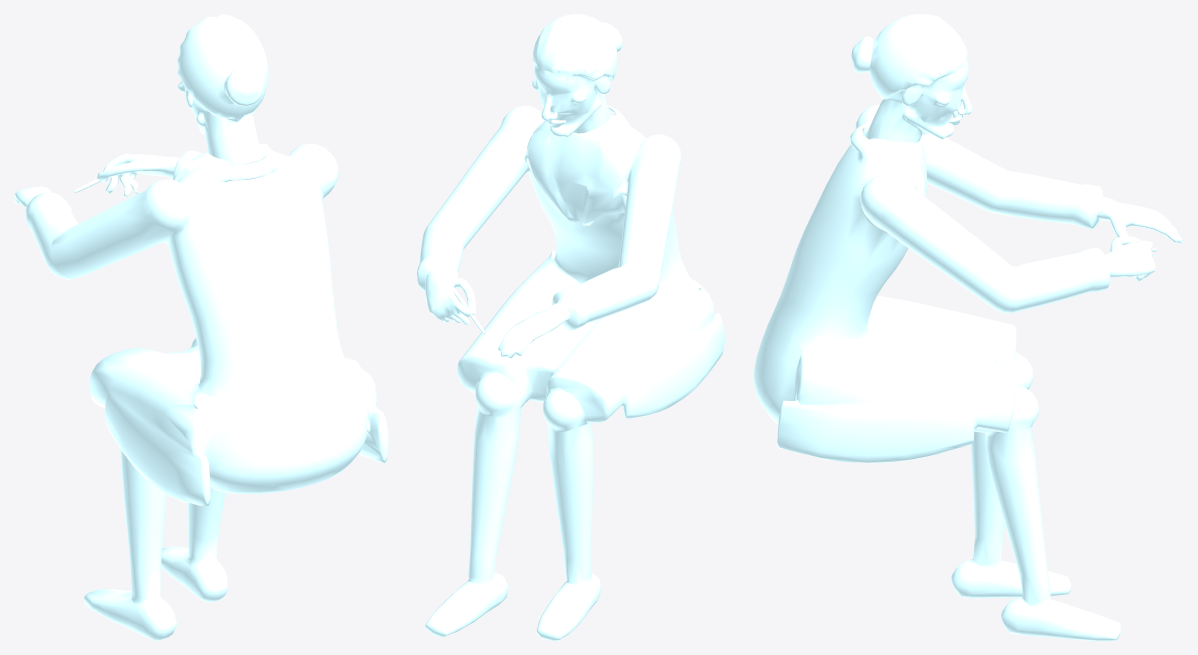
The model's file is echo_leyla_sitting.glb.
The picture shows the model from 3 angles, left to right: view 1: azimuth 30°, elevation 25°; view 2: azimuth 150°, elevation 25°; view 3: azimuth 270°, elevation 25°; orthographic projection. The views are drawn at different scales.
Visible parts, largest first — view 1: echo_body, echo_head; view 2: echo_body, echo_head; view 3: echo_body, echo_head.
Boxes of the visible parts, bbox=[...] form: echo_body: bbox=[14, 143, 388, 640]; echo_head: bbox=[177, 14, 268, 164]; echo_body: bbox=[417, 105, 724, 640]; echo_head: bbox=[532, 14, 622, 137]; echo_body: bbox=[753, 104, 1183, 640]; echo_head: bbox=[851, 14, 972, 142].
Bounding box in the file's own units: 0.5562 × 1.32 × 0.8612.
